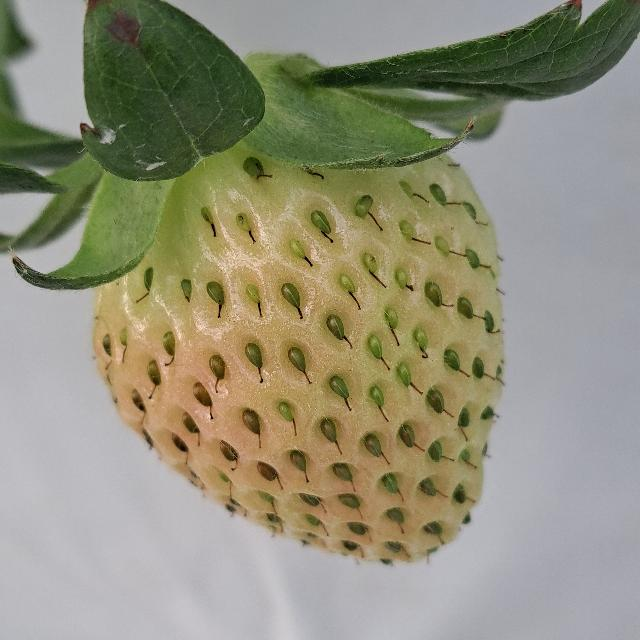Health_50: (92, 138, 506, 564)
